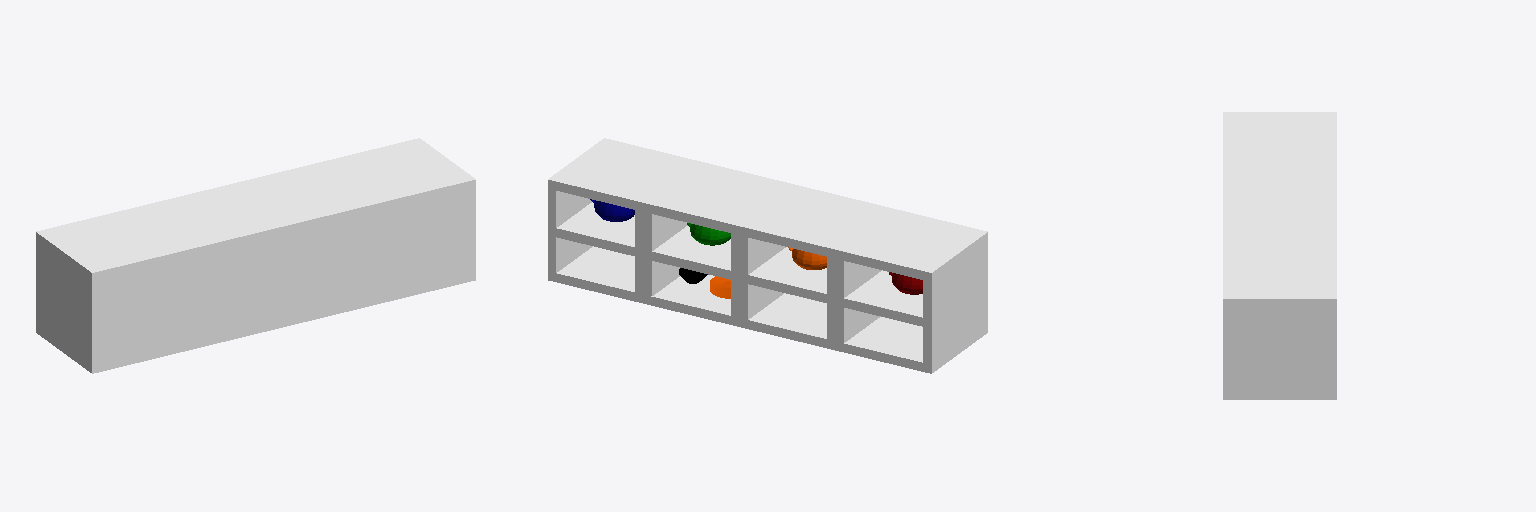
The model's file is cupboard.obj.
The picture shows the model from 3 angles: view 1: azimuth 30°, elevation 25°; view 2: azimuth 150°, elevation 25°; view 3: azimuth 270°, elevation 25°; orthographic projection.
Visible parts, largest first — view 1: Box023, Box012, Box016, Box006, Box004, Box026, Box019, Box022, Box010; view 2: Box026, Box004, Box010, Box019, Box022, Box027, Box009, Box020, Box025, Box011, Box005, Box018 (+11 smaller); view 3: Box021, Box019, Box010, Box004, Box026, Box020, Box018, Box015.
Part boxes in pixels (x1,y1,x2,y2): Box023: (91, 249, 188, 373); Box012: (188, 225, 284, 350); Box016: (380, 178, 475, 302); Box006: (283, 202, 380, 326); Box004: (228, 161, 378, 223); Box026: (36, 208, 177, 280); Box019: (324, 138, 473, 201); Box022: (36, 230, 90, 368); Box010: (132, 185, 273, 246); Box026: (835, 209, 986, 281); Box004: (644, 163, 791, 234); Box010: (739, 186, 889, 258); Box019: (548, 139, 689, 211); Box022: (923, 231, 986, 370); Box027: (835, 317, 986, 373); Box009: (739, 293, 835, 349); Box020: (548, 246, 643, 303); Box025: (836, 270, 986, 328); Box011: (739, 247, 835, 304); Box005: (644, 226, 739, 281); Box018: (548, 202, 643, 258); Box021: (1226, 295, 1336, 399); Box019: (1226, 257, 1336, 307); Box010: (1226, 159, 1336, 205); Box004: (1226, 206, 1336, 252); Box026: (1226, 112, 1336, 158); Box020: (1226, 391, 1336, 399); Box018: (1226, 346, 1336, 354); Box015: (1226, 252, 1336, 256).
Size of the model in its own units: 40.16 by 10.08 by 10.26.